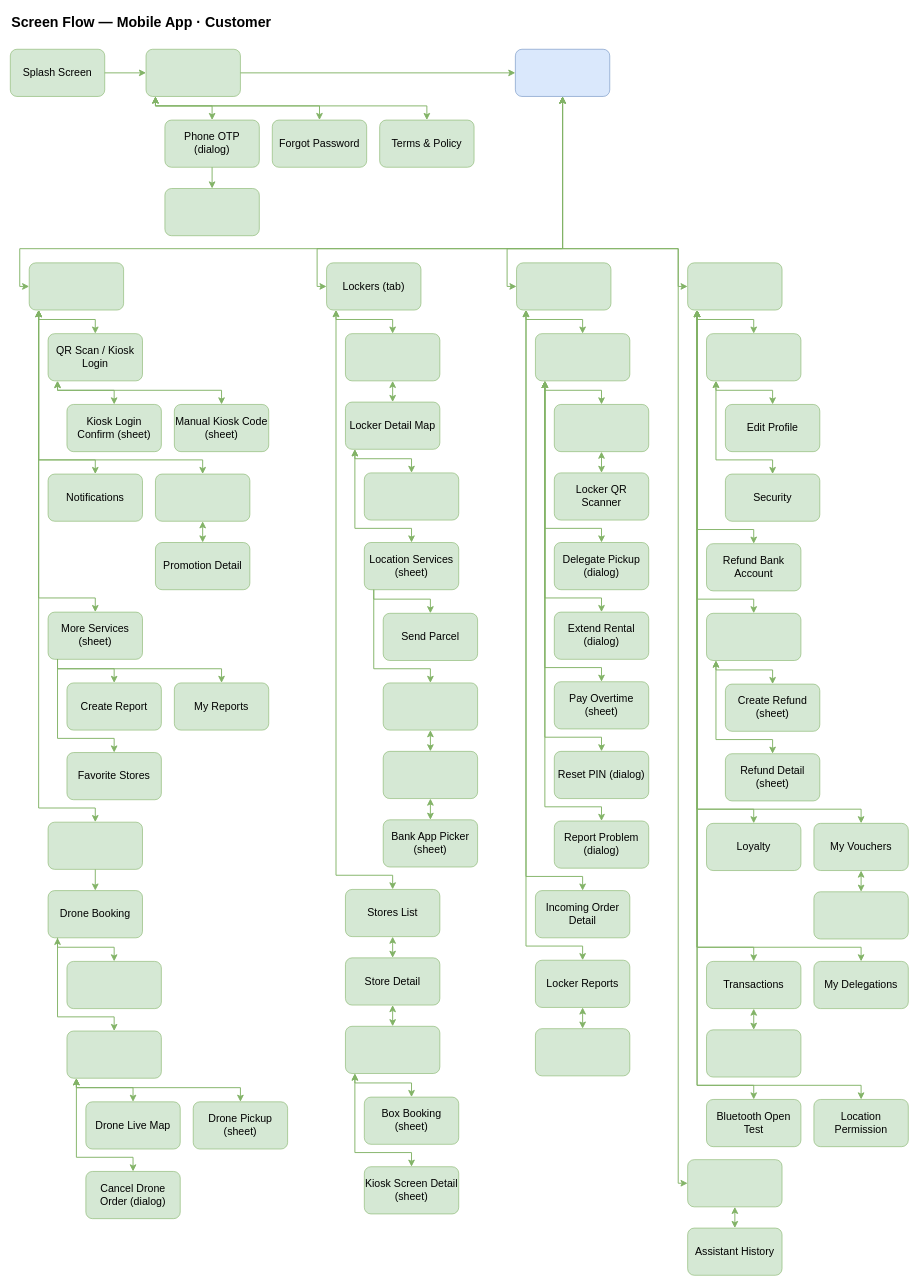
Image size: 919x1286. Some labels were removed from this diagram. Here are the shapes that lost their labels. From the top down, the centre of each, then its label:
point (192, 72): Login Screen
point (562, 72): Home (Main Navigation)
point (211, 212): Complete Profile (dialog)
point (76, 286): Home (tab)
point (563, 286): Orders (tab)
point (734, 286): Profile (tab)
point (392, 357): Locker Map
point (582, 357): My Order Detail
point (753, 357): Profile Detail
point (601, 428): Unlock Locker (sheet)
point (202, 497): Promotions
point (411, 496): Directions Map
point (753, 637): Refund Requests
point (430, 706): Rent Locker
point (430, 775): VietQR Payment (sheet)
point (94, 845): Drone Locker Picker (sheet)
point (860, 915): Voucher Detail
point (113, 985): Pickup Location Picker
point (113, 1054): Drone Tracking
point (392, 1050): Store Locker Grid
point (582, 1052): Report Detail (sheet)
point (753, 1053): Transaction Detail (sheet)
point (734, 1183): AI Assistant (tab)
